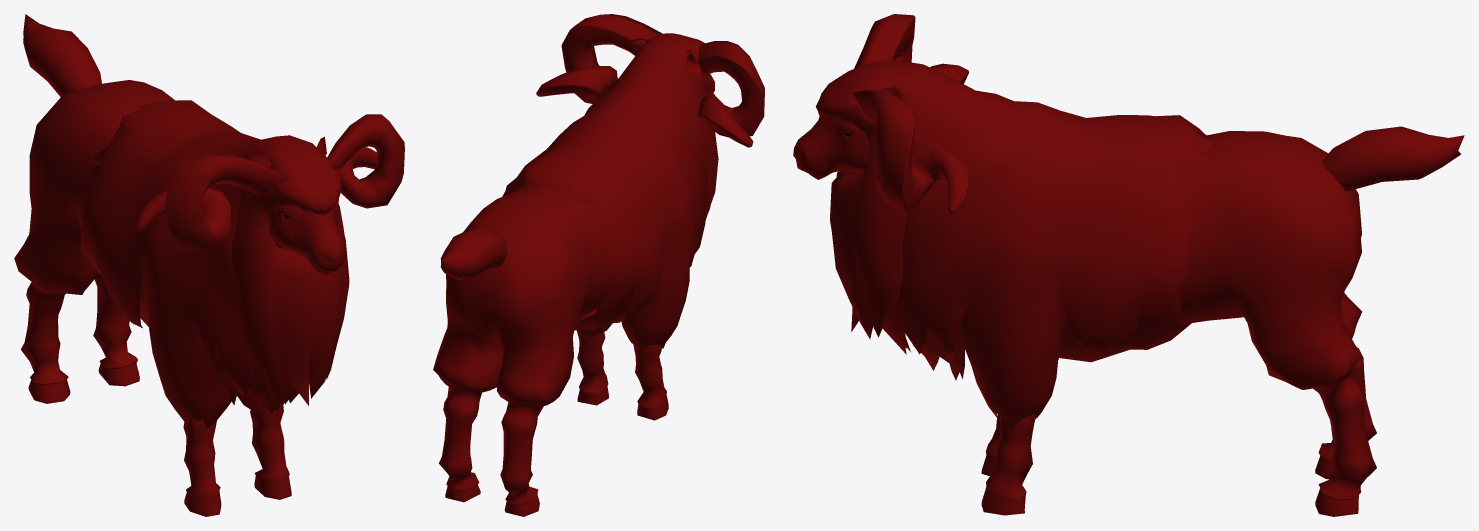
The model's file is Fld0BR_c901_Body.fbx.
3 renders of one model, left to right at view 1: azimuth 30°, elevation 25°; view 2: azimuth 150°, elevation 25°; view 3: azimuth 270°, elevation 25°, orthographic. The views are drawn at different scales.
Visible parts, largest first — view 1: Fld0BR_c901_Body; view 2: Fld0BR_c901_Body; view 3: Fld0BR_c901_Body.
Part boxes in pixels (x1,y1,x2,y2): Fld0BR_c901_Body: [14, 14, 404, 516]; Fld0BR_c901_Body: [433, 14, 764, 516]; Fld0BR_c901_Body: [793, 14, 1464, 516].
Bounding box in the file's own units: 0.8767 × 1.33 × 1.87.
